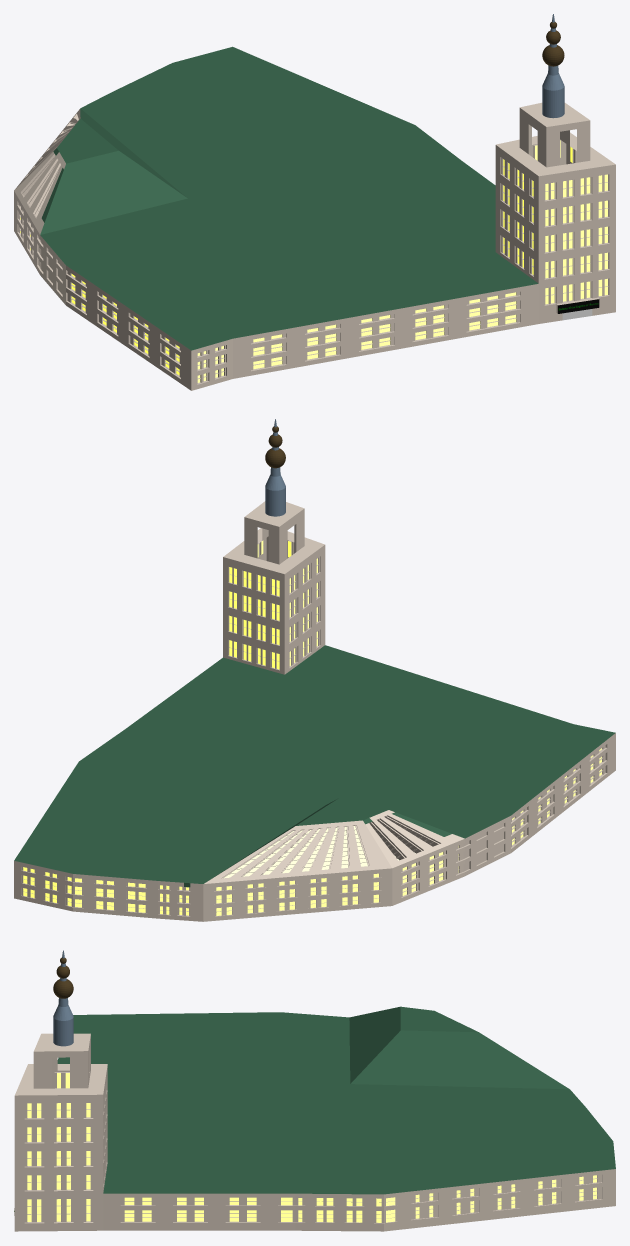
Rendered from embassy_of_morocco.fbx.
3 views of the same model, one above another, from view 1: azimuth 30°, elevation 25°; view 2: azimuth 150°, elevation 25°; view 3: azimuth 270°, elevation 25° (orthographic). The views are drawn at different scales.
Visible parts, largest first — view 1: Plane, Circle; view 2: Plane, Circle; view 3: Plane, Circle.
Part boxes in pixels (x1,y1,x2,y2): Plane: [14, 46, 615, 390]; Circle: [542, 14, 564, 118]; Plane: [14, 501, 615, 921]; Circle: [265, 419, 285, 516]; Plane: [14, 1006, 615, 1231]; Circle: [53, 950, 73, 1046].
Bounding box in the file's own units: 632 × 428 × 883.
